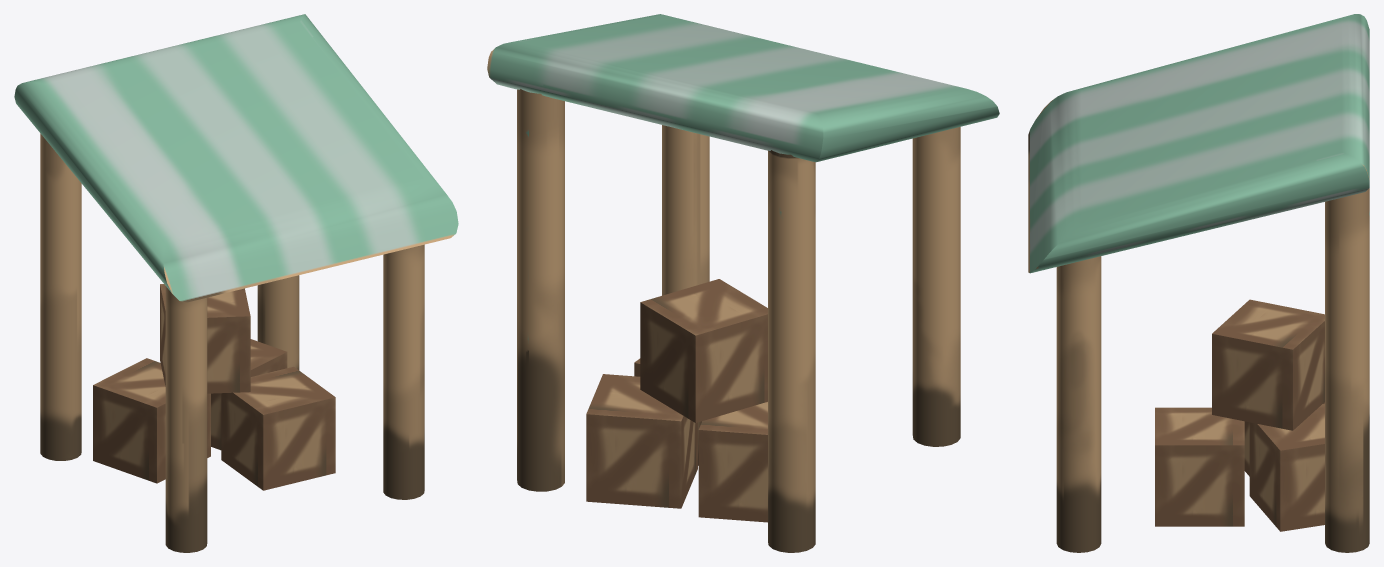
The model's file is resource_post.fbx.
3 renders of one model, left to right at view 1: azimuth 30°, elevation 25°; view 2: azimuth 150°, elevation 25°; view 3: azimuth 270°, elevation 25°, orthographic. The views are drawn at different scales.
Parts seen in each view (by area): view 1: Cylinder; view 2: Cylinder; view 3: Cylinder.
Boxes of the visible parts, box(x1,y1,x2,y2) form: Cylinder: box(14, 14, 458, 552); Cylinder: box(487, 14, 999, 552); Cylinder: box(1028, 14, 1369, 552).
Size of the model in its own units: 800 by 990 by 763.
1 material, 1 textured.
